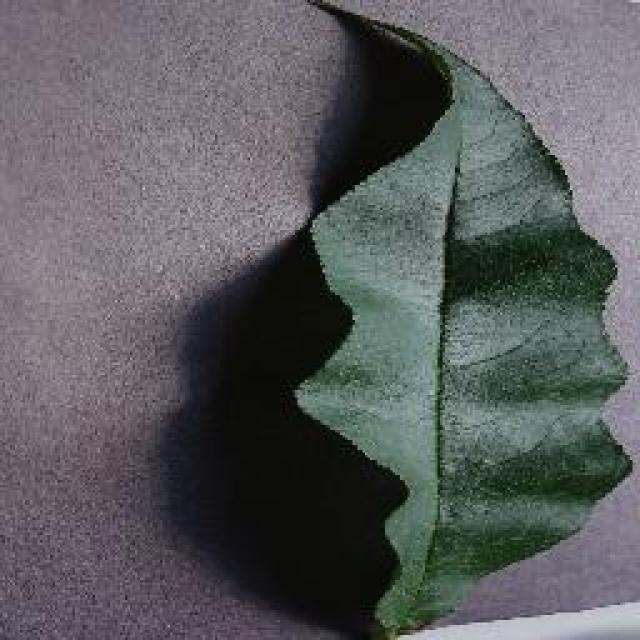Pea_healthy: (296, 14, 616, 538)
